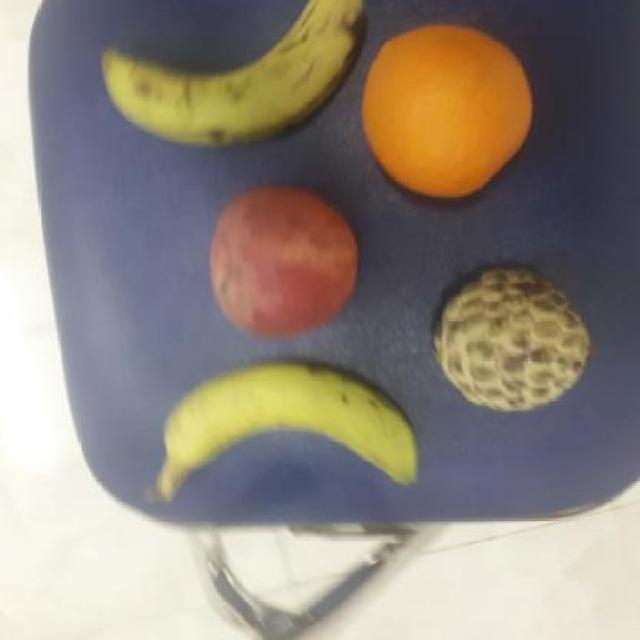apple: (204, 185, 364, 342)
banana: (98, 0, 364, 154), (142, 362, 422, 504)
oren: (354, 21, 538, 201)
sugar apple: (425, 260, 593, 417)
